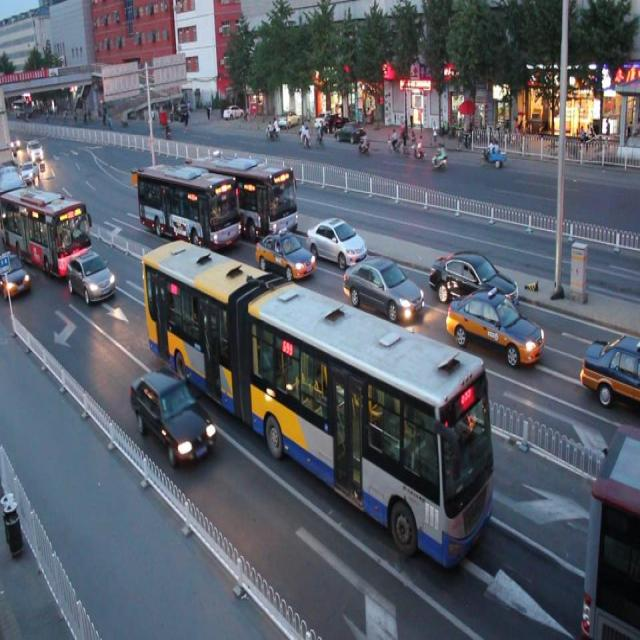car: (129, 368, 216, 466), (445, 284, 543, 368), (427, 250, 517, 314), (341, 254, 424, 322), (578, 329, 640, 413), (255, 229, 317, 283), (304, 217, 368, 267), (66, 252, 113, 306), (0, 249, 32, 302), (149, 168, 182, 193), (206, 148, 235, 174)
van: (139, 238, 493, 574), (583, 429, 640, 631), (191, 154, 300, 245), (136, 160, 241, 252), (1, 183, 90, 282)
